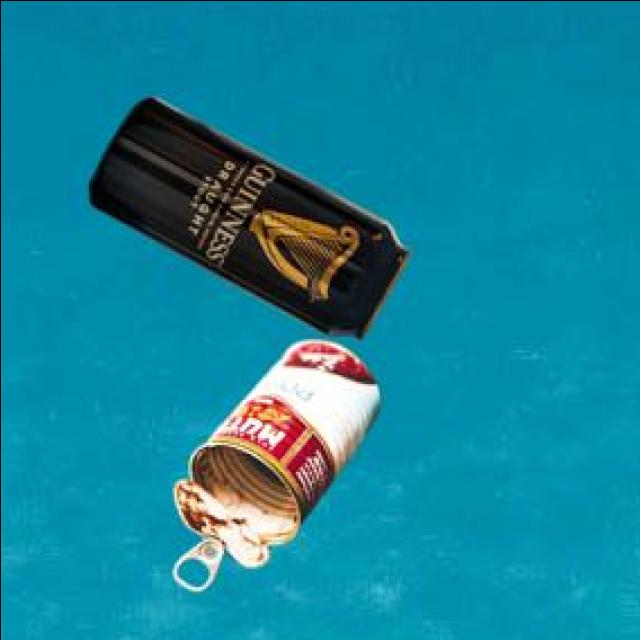logam: (87, 96, 405, 335), (170, 335, 377, 587)
